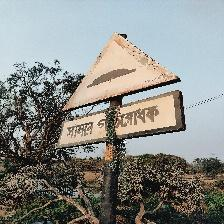Speed-breaker: (59, 32, 185, 148)
